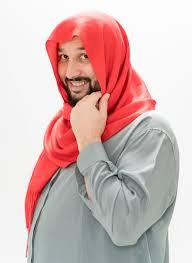scarf-kerchief: (28, 2, 146, 127)
